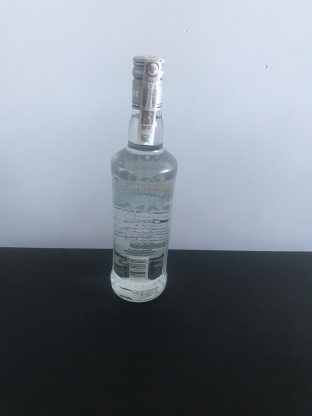nakretka: (129, 51, 167, 114)
